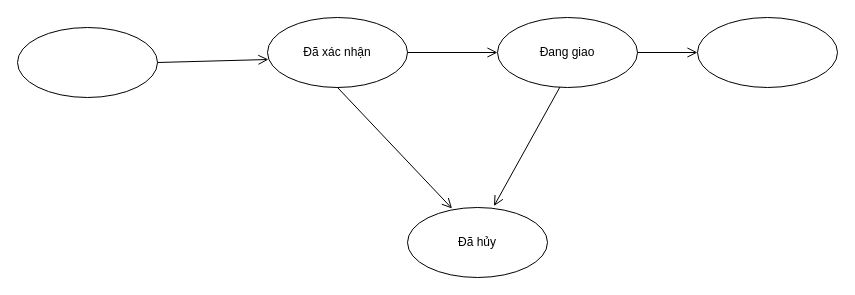
Image size: 855x295. Some labels were removed from this diagram. Each missing label, with the box of its shape:
Chờ xử lý: (16, 26, 158, 98)
Đã hoàn thành: (696, 16, 838, 88)
